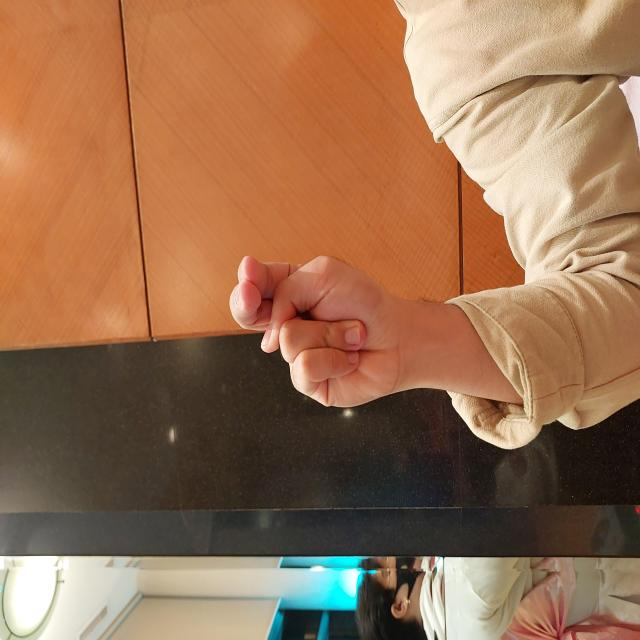N: (231, 228, 387, 401)
